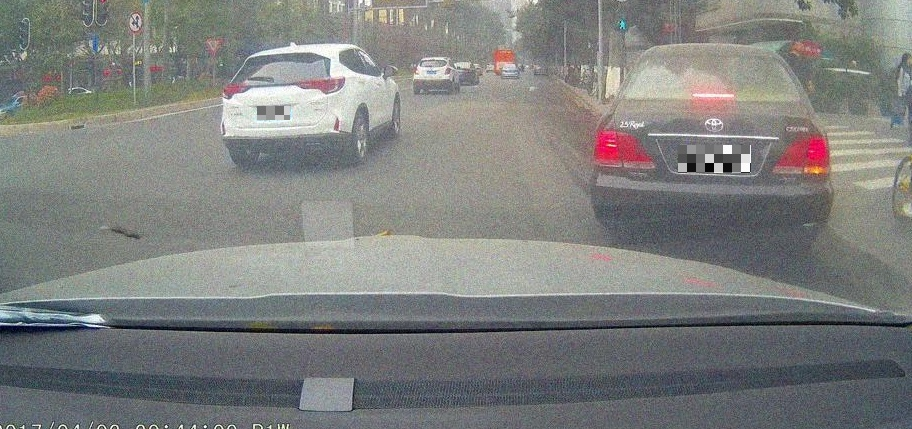L_light: (593, 131, 656, 170), (222, 83, 251, 99), (414, 67, 419, 75)
R_light: (773, 136, 831, 173), (295, 77, 345, 94), (445, 68, 451, 75)
T_light: (692, 92, 735, 100), (281, 53, 296, 58), (430, 59, 437, 62)
day-brake: (590, 43, 835, 251)
day-no: (220, 44, 347, 167), (413, 57, 452, 94)
plate_1: (257, 106, 290, 120)
plate_2: (678, 145, 751, 173)
